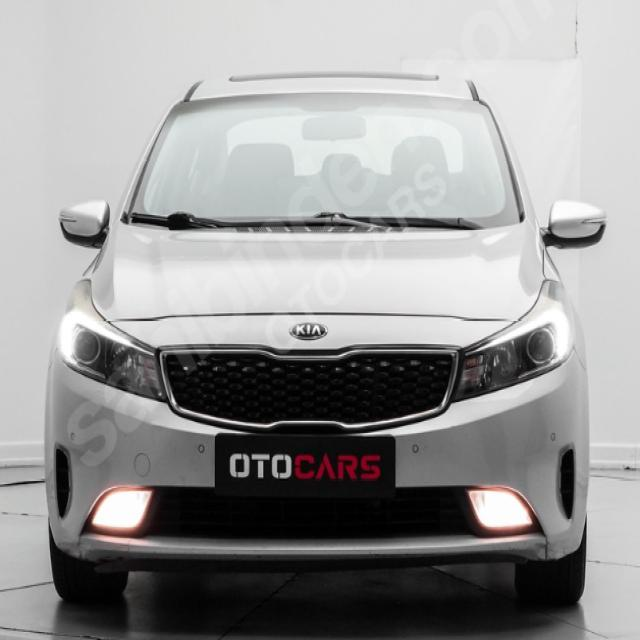kia: (289, 318, 330, 345)
